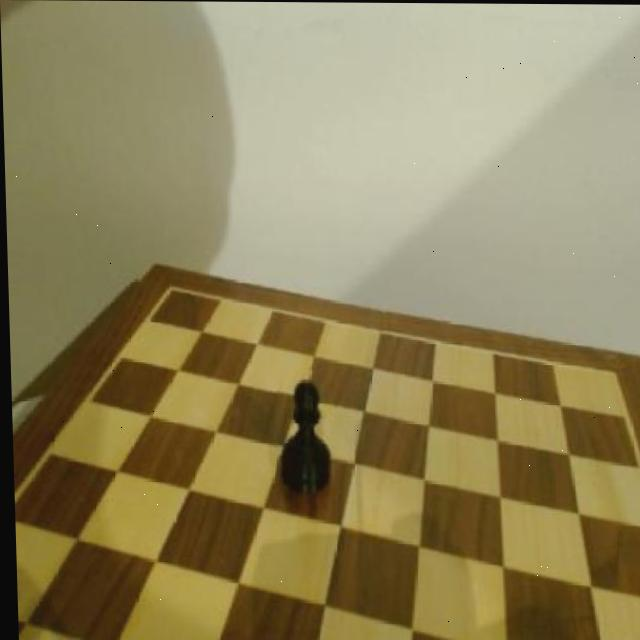black-knight: (272, 371, 336, 505)
